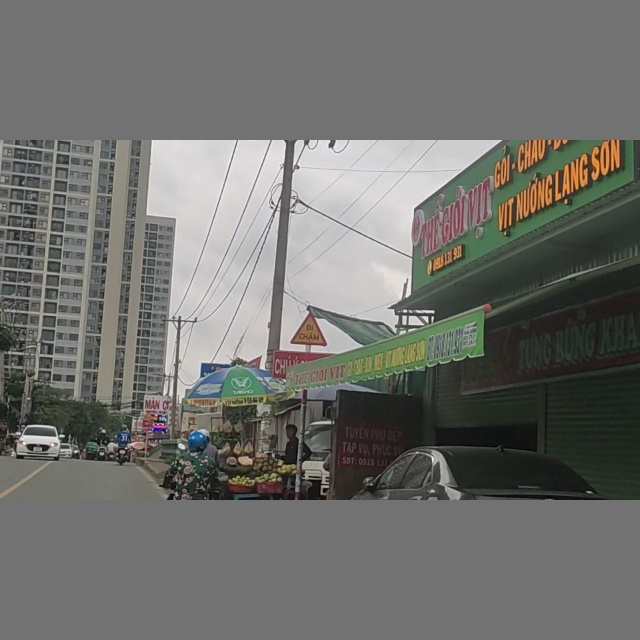W.245a: (292, 313, 326, 345)
